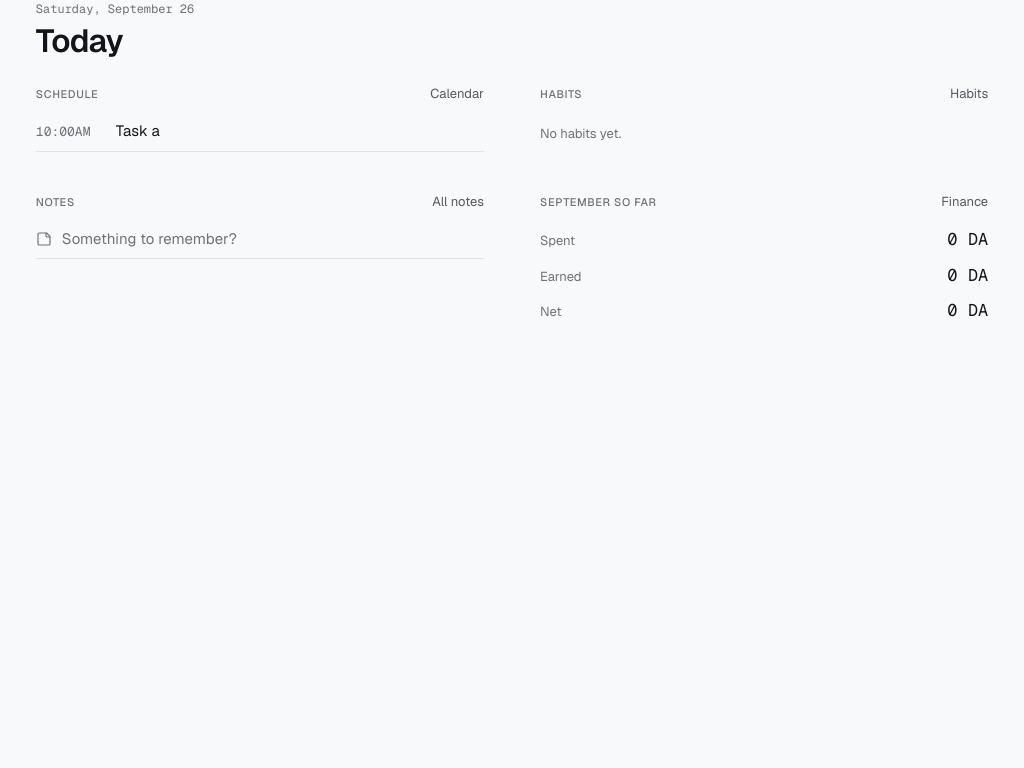
Test: DashboardBoard › clicking a scheduled task opens the edit dialog
Click the text "Task a".
click(138, 131)  # box [116,121,160,140]
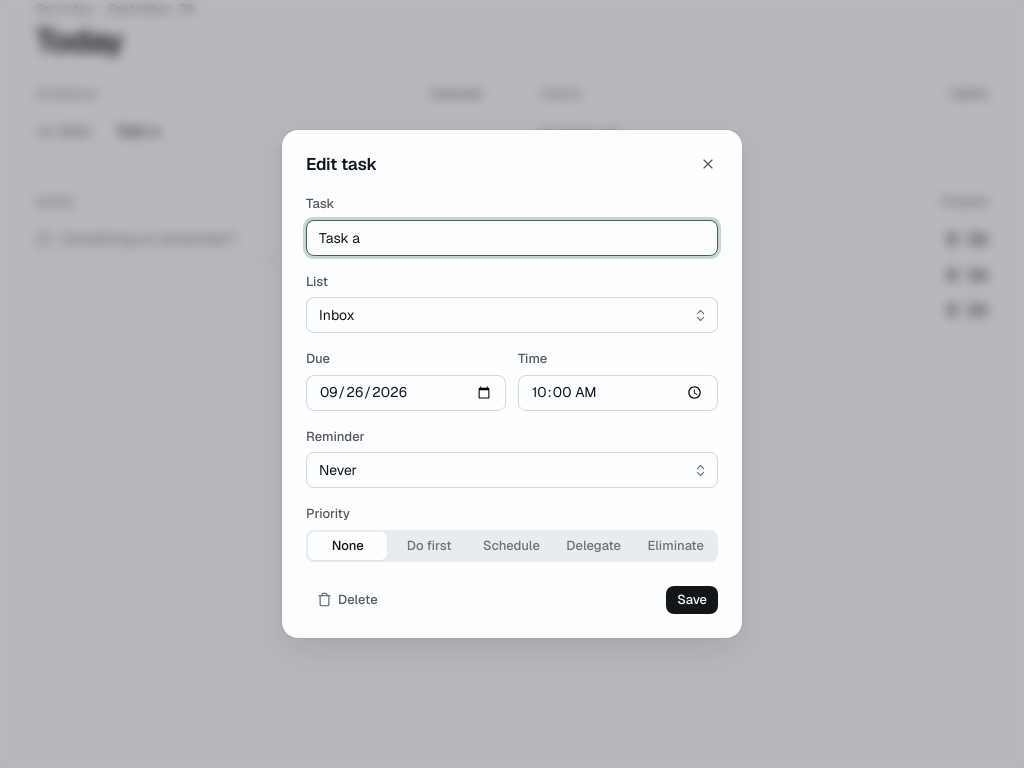
Result: the dialog is shown at [282,130,742,638]
Result: the field labelled "Task" holds "Task a" at [306,220,718,256]
